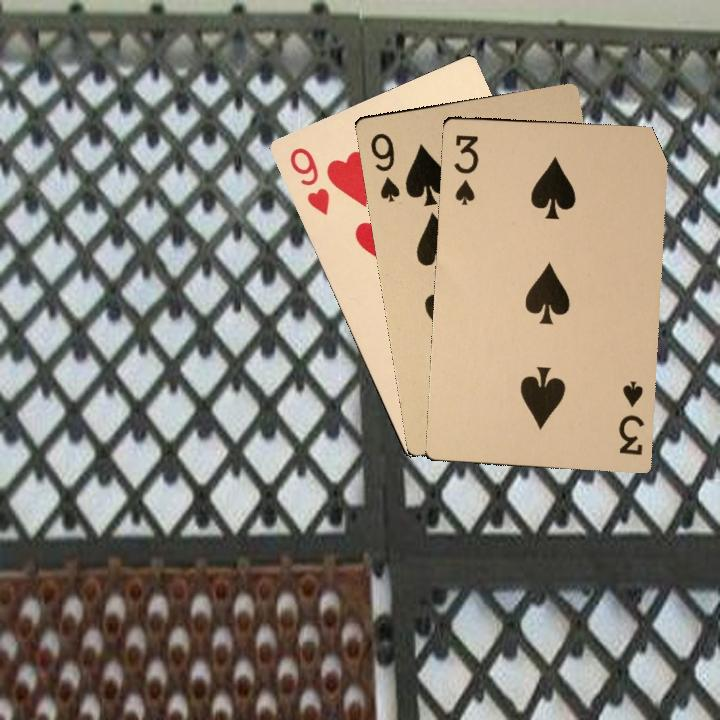3s: (614, 378, 647, 457), (449, 131, 481, 208)
9h: (285, 143, 333, 218)
9s: (366, 129, 403, 205)
